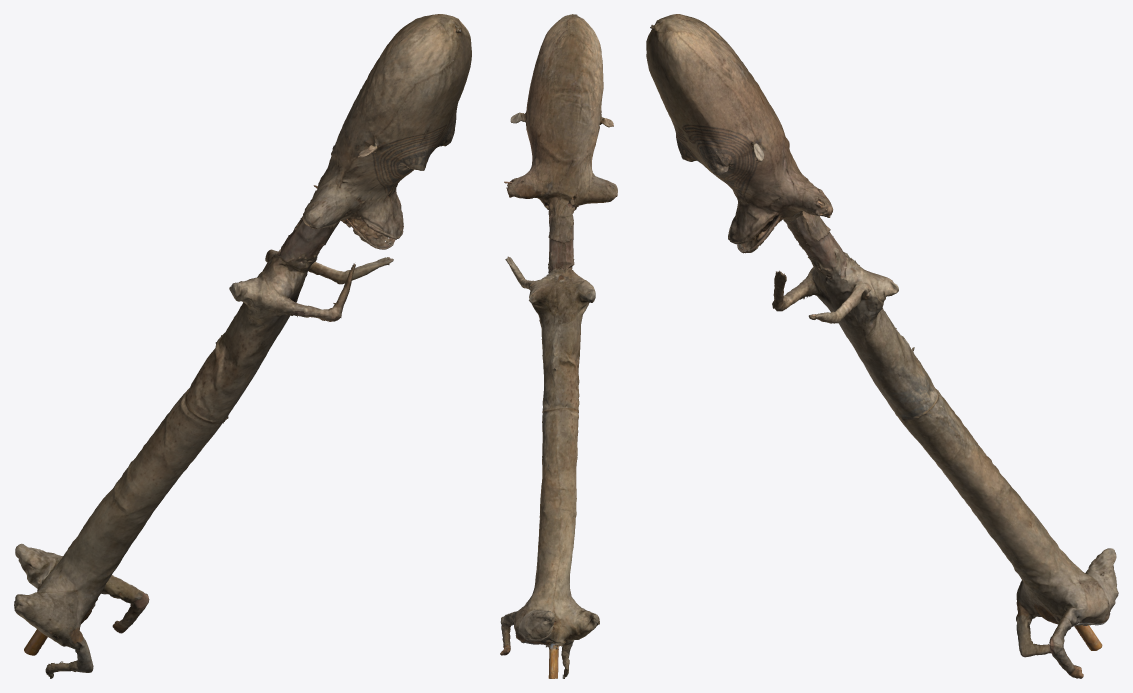
The model's file is preview.glb.
3 renders of one model, left to right at view 1: azimuth 30°, elevation 25°; view 2: azimuth 150°, elevation 25°; view 3: azimuth 270°, elevation 25°, orthographic. The views are drawn at different scales.
Parts seen in each view (by area): view 1: Group_Global_n3d; view 2: Group_Global_n3d; view 3: Group_Global_n3d.
Boxes of the visible parts, bbox=[...] form: Group_Global_n3d: bbox=[14, 14, 471, 678]; Group_Global_n3d: bbox=[500, 14, 617, 678]; Group_Global_n3d: bbox=[646, 14, 1118, 678].
Size of the model in its own units: 1.38 by 3.61 by 2.1.
Materials: 1 (1 with a texture image).
